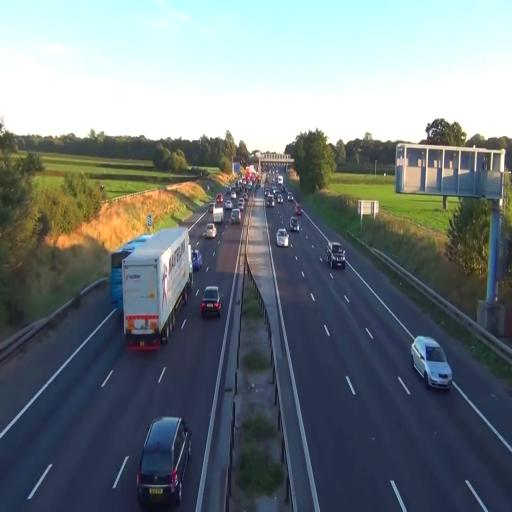vehicle: (121, 226, 193, 351), (135, 415, 192, 508), (410, 335, 452, 390), (200, 284, 222, 320), (328, 243, 346, 271), (276, 226, 290, 248), (204, 220, 218, 239), (192, 248, 202, 272), (290, 214, 300, 232)
